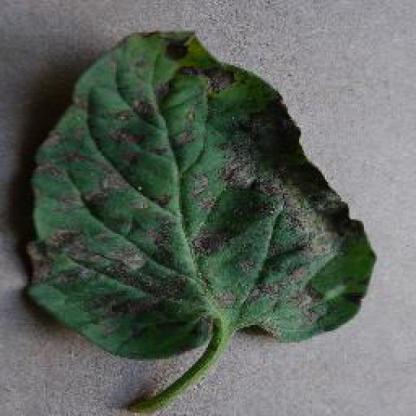Tomato_Blight: (23, 31, 376, 356)
